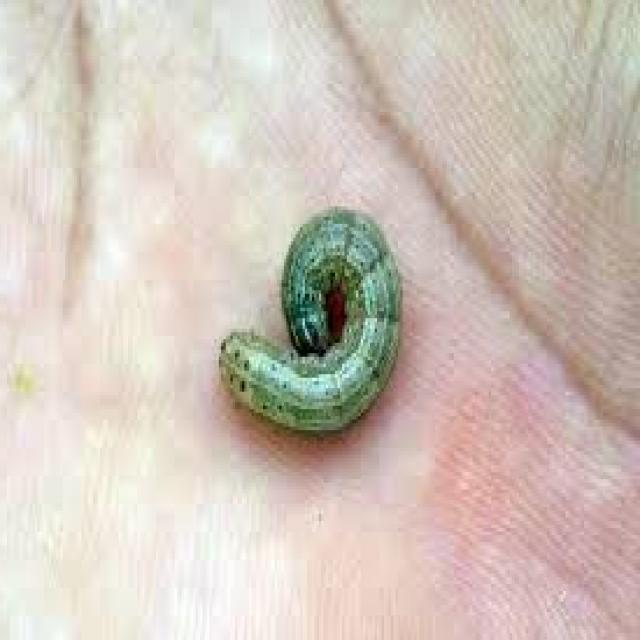armyworm: (220, 203, 407, 444)
